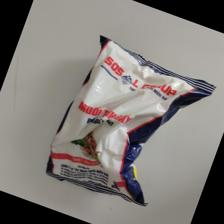Salt: (41, 35, 220, 214)
